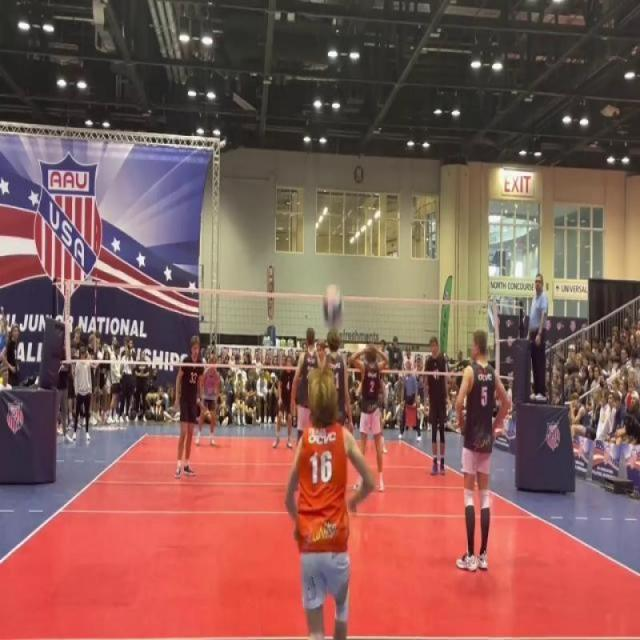volleyball: (320, 280, 346, 332)
